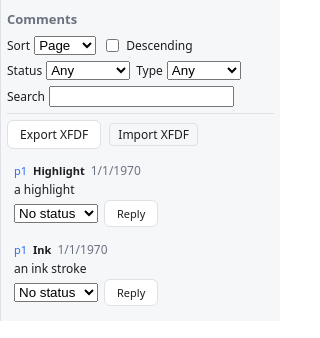
CommentPane: filters (D-A11) › filters by type
Expected: the text "a highlight" is shown, [14, 181, 74, 198]
Select "Ink" in the dropdown labelled "Type" at (204, 70), box [167, 61, 241, 80]
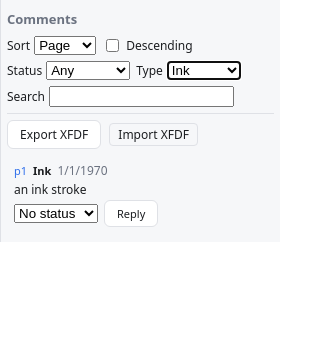
Expected: the text "an ink stroke" is shown, [14, 181, 86, 198]
Now the text "a highlight" is gone
